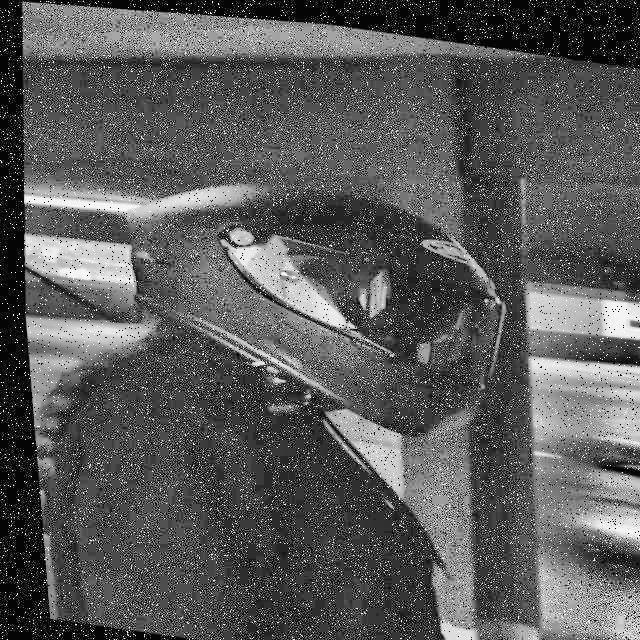Helmet: (95, 149, 528, 449)
